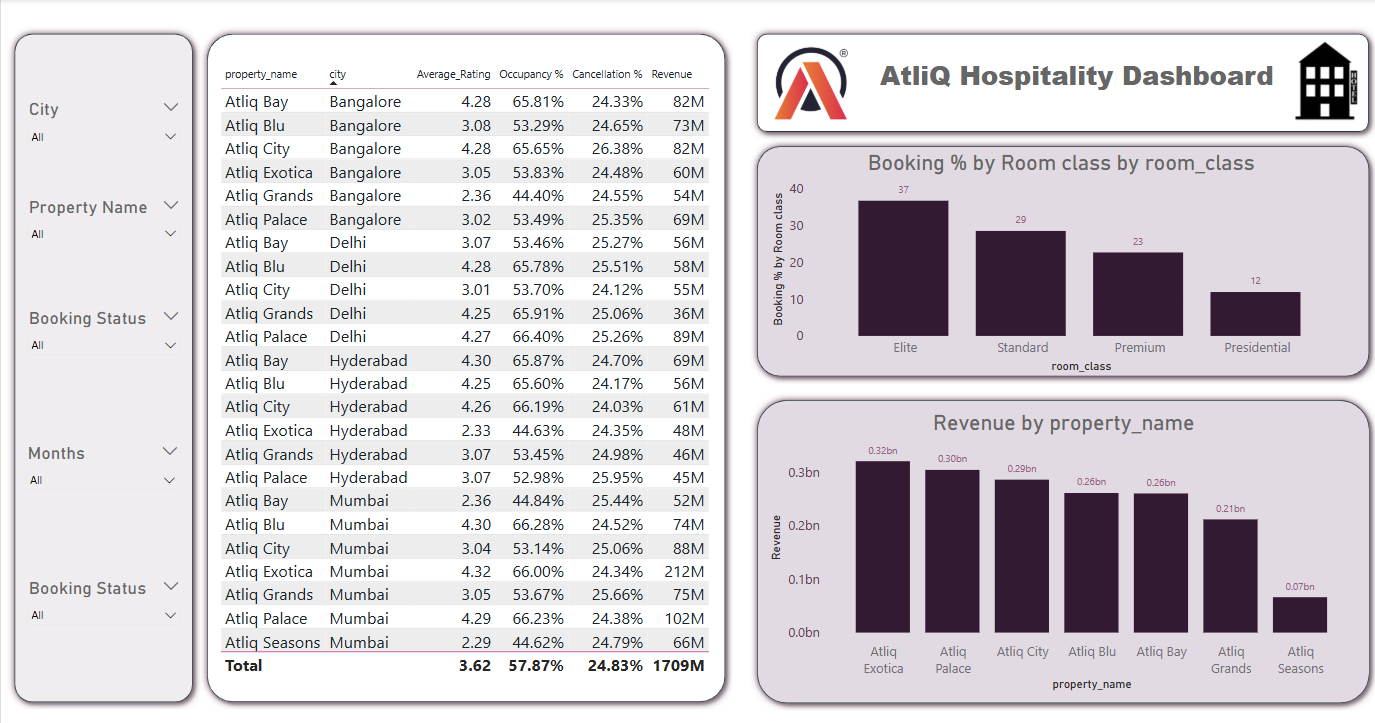

What the dashboard file says about the page in this screenshot:
{"tool":"powerbi","page":{"name":"Page 2","canvas":[1700,900],"ordinal":2},"visuals":[{"type":"shape","box":[7.8,34.3,238.2,843.9],"z":0},{"type":"shape","box":[925.9,34.3,775.3,139.5],"z":0,"group":"g5"},{"type":"shape","box":[246,35,658.6,843.9],"z":0,"group":"g2"},{"type":"slicer","fields":{"Values":["dim_hotels.city"]},"box":[22.2,118.3,210.2,84.1],"z":0,"group":"g4"},{"type":"shape","box":[925.9,486.2,775,392.8],"z":0,"group":"g1"},{"type":"image","box":[950.3,43.2,104.4,120.2],"z":1000,"group":"g5"},{"type":"tableEx","fields":{"Values":["dim_hotels.property_name","dim_hotels.city","key_measures_table.Average_Rating","key_measures_table.Occupancy %","key_measures_table.Cancellation %","key_measures_table.Revenue"]},"box":[266.2,77,616.6,766.1],"z":1000,"group":"g2"},{"type":"shape","box":[925.9,173.4,775,302.7],"z":1000,"group":"g3"},{"type":"slicer","fields":{"Values":["dim_hotels.property_name"]},"box":[21.8,238.2,210.2,84.1],"z":1000,"group":"g4"},{"type":"textbox","box":[1049.4,66.9,561.1,74.2],"z":2000,"group":"g5"},{"type":"slicer","fields":{"Values":["dim_rooms.room_class"]},"box":[253.5,113.7,225.2,84.5],"z":2000},{"type":"slicer","fields":{"Values":["fact_bookings.booking_status"]},"box":[21.8,376.8,210.2,84.1],"z":2000,"group":"g4"},{"type":"group","id":"g1","title":"Group 1","box":[925.9,486.2,775,392.8],"z":2000,"group":"g2"},{"type":"group","id":"g2","title":"Group 4","box":[246,34.3,1454.3,843.9],"z":3000},{"type":"image","box":[1581,46.2,116.5,115.7],"z":3000,"group":"g5"},{"type":"group","id":"g3","title":"Group 2","box":[925.9,173.4,775,302.7],"z":3000,"group":"g2"},{"type":"slicer","fields":{"Values":["dim_date.date.Variation.Date Hierarchy.Month"]},"box":[20.2,543.4,210.2,84.1],"z":3000,"group":"g4"},{"type":"group","id":"g4","title":"Group 5","box":[20.2,118.3,211.8,675.8],"z":3006},{"type":"group","id":"g5","title":"Group 3","box":[925.9,34.3,775,139.1],"z":4000,"group":"g2"},{"type":"slicer","fields":{"Values":["dim_hotels.category"]},"box":[21.8,710,210.2,84.1],"z":4000,"group":"g4"},{"type":"columnChart","fields":{"Y":["key_measures_table.Booking % by Room class"],"Category":["dim_rooms.room_class"]},"box":[947.7,187.2,726.3,279.1],"z":6000,"group":"g3"},{"type":"columnChart","fields":{"Category":["dim_hotels.property_name"],"Y":["key_measures_table.Revenue"]},"box":[945.7,507.2,735.4,351.8],"z":7000,"group":"g1"}]}

Visuals, with their boxes in screenshot pixels (x1, y1, x2, y2), scaled from the page's 1700x900 canvas onto the 1375x723 screenshot:
shape: l=6, t=28, r=199, b=705
shape: l=749, t=28, r=1374, b=140
shape: l=199, t=28, r=732, b=706
slicer - dim_hotels.city: l=18, t=95, r=188, b=163
shape: l=749, t=391, r=1374, b=706
image: l=769, t=35, r=853, b=131
tableEx - dim_hotels.property_name x dim_hotels.city: l=215, t=62, r=714, b=677
shape: l=749, t=139, r=1374, b=382
slicer - dim_hotels.property_name: l=18, t=191, r=188, b=259
textbox: l=849, t=54, r=1303, b=113
slicer - dim_rooms.room_class: l=205, t=91, r=387, b=159
slicer - fact_bookings.booking_status: l=18, t=303, r=188, b=370
"Group 1" group: l=749, t=391, r=1374, b=706
"Group 4" group: l=199, t=28, r=1374, b=705
image: l=1279, t=37, r=1373, b=130
"Group 2" group: l=749, t=139, r=1374, b=382
slicer - dim_date.date.Variation.Date Hierarchy.Month: l=16, t=437, r=186, b=504
"Group 5" group: l=16, t=95, r=188, b=638
"Group 3" group: l=749, t=28, r=1374, b=139
slicer - dim_hotels.category: l=18, t=570, r=188, b=638
columnChart - key_measures_table.Booking % by Room class x dim_rooms.room_class: l=767, t=150, r=1354, b=375
columnChart - dim_hotels.property_name x key_measures_table.Revenue: l=765, t=407, r=1360, b=690
